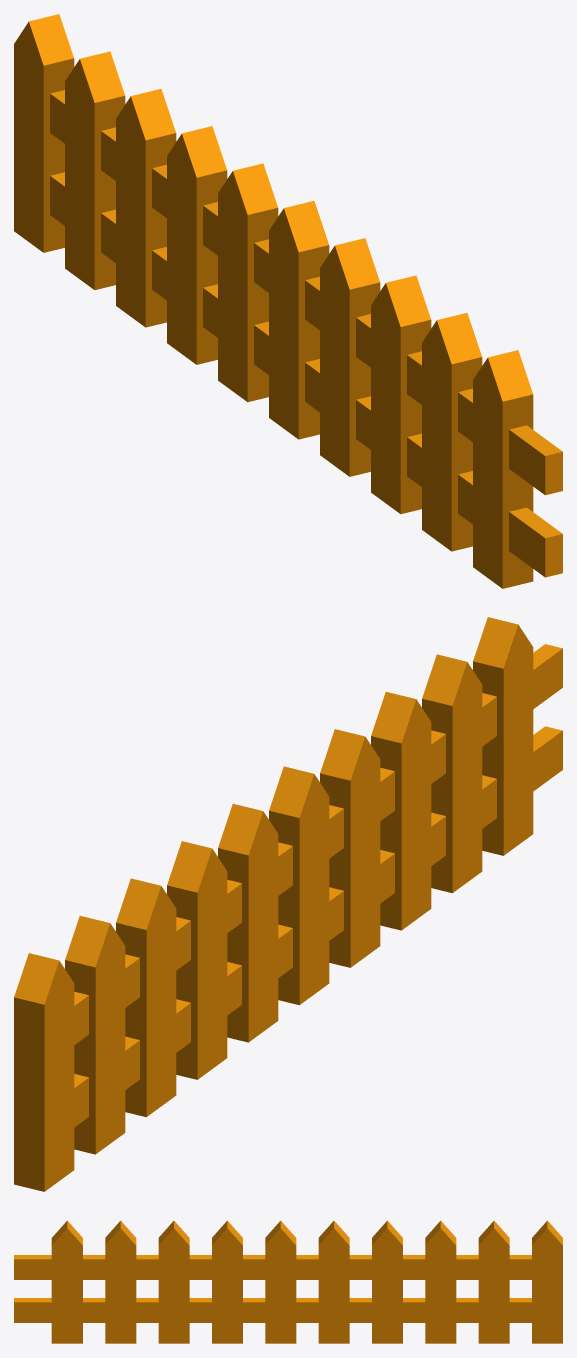
Rendered from fence_short.fbx.
The picture shows the model from 3 angles, top to bottom: view 1: azimuth 30°, elevation 25°; view 2: azimuth 150°, elevation 25°; view 3: azimuth 270°, elevation 25°; orthographic projection. The views are drawn at different scales.
Parts seen in each view (by area): view 1: fence_short; view 2: fence_short; view 3: fence_short.
Part boxes in pixels (<box>): fence_short: <box>14,14,562,588</box>; fence_short: <box>14,617,562,1191</box>; fence_short: <box>14,1220,562,1343</box>.
Bounding box in the file's own units: 17.27 × 119 × 515.
